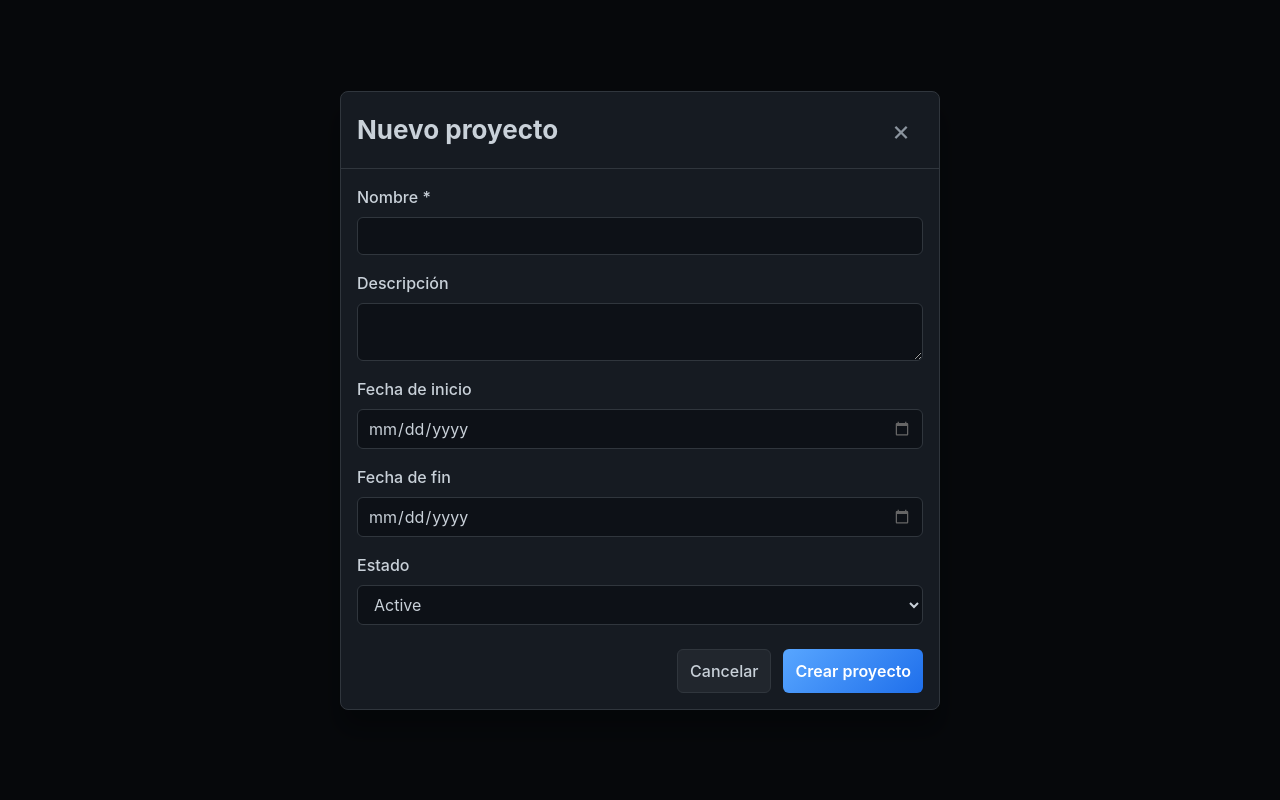
Scenario: ProjectFormModal › shows endDate error when endDate is before startDate
Type "Test" into the field labelled "Nombre *".
click(640, 236); type("Test")  # box [357,216,923,254]
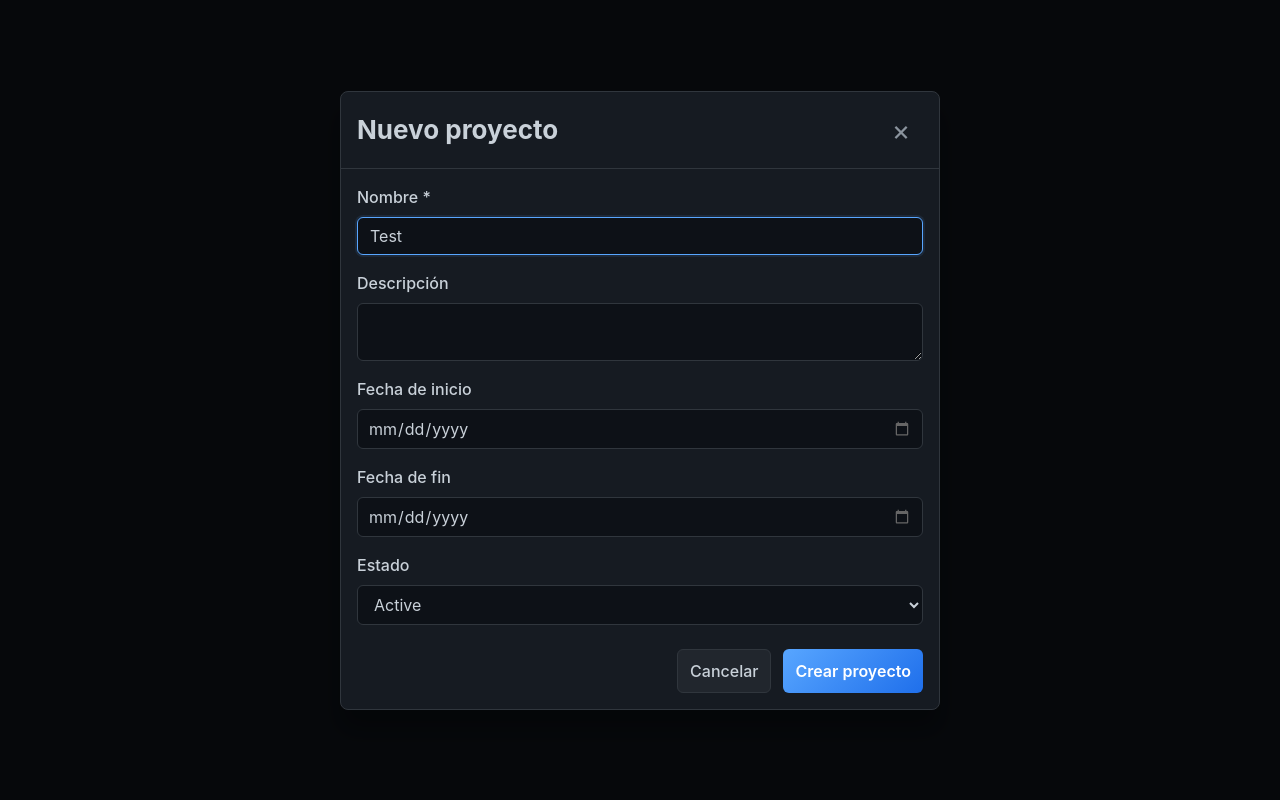
Type "2026-06-01" into the date field labelled "Fecha de inicio".
click(640, 428); type("2026-06-01")  # box [357,408,923,448]
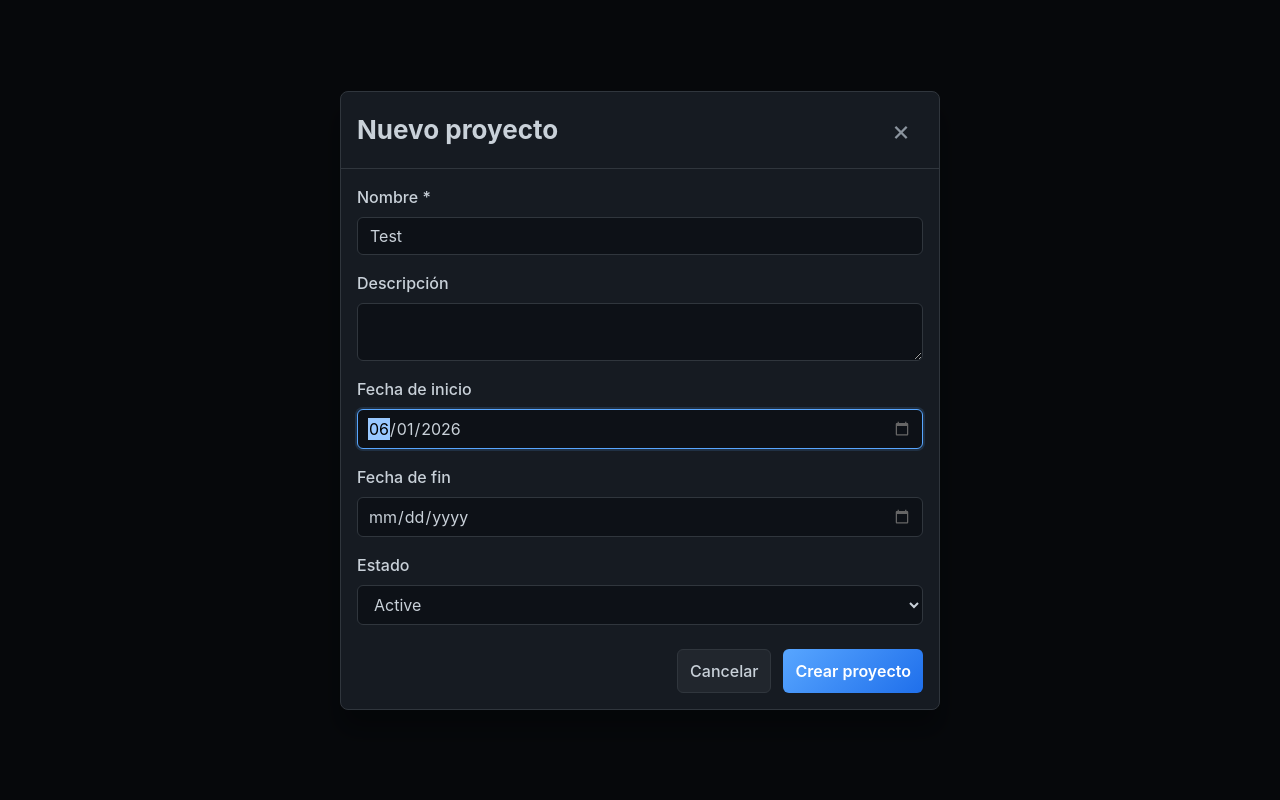
Type "2026-01-01" into the date field labelled "Fecha de fin".
click(640, 516); type("2026-01-01")  # box [357,496,923,536]
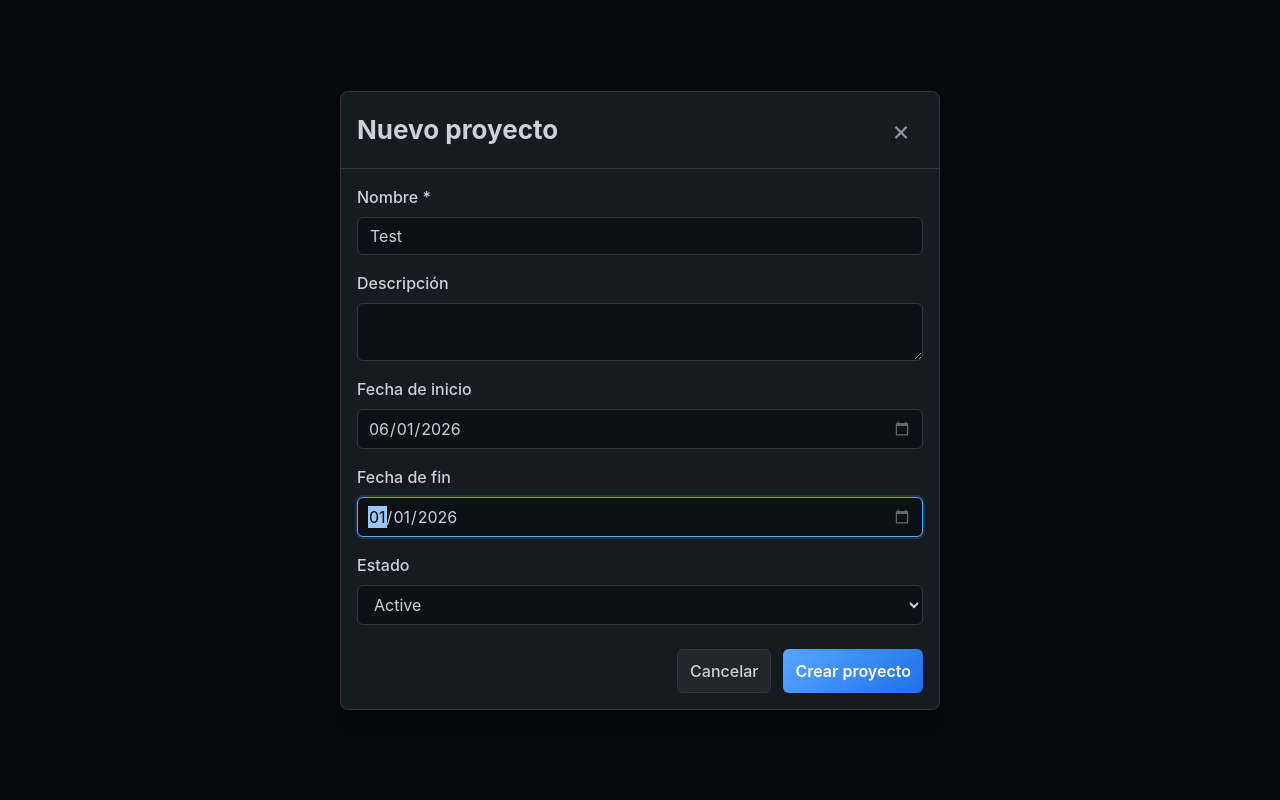
Click the button "Crear proyecto".
click(853, 670)  # box [784,648,923,692]
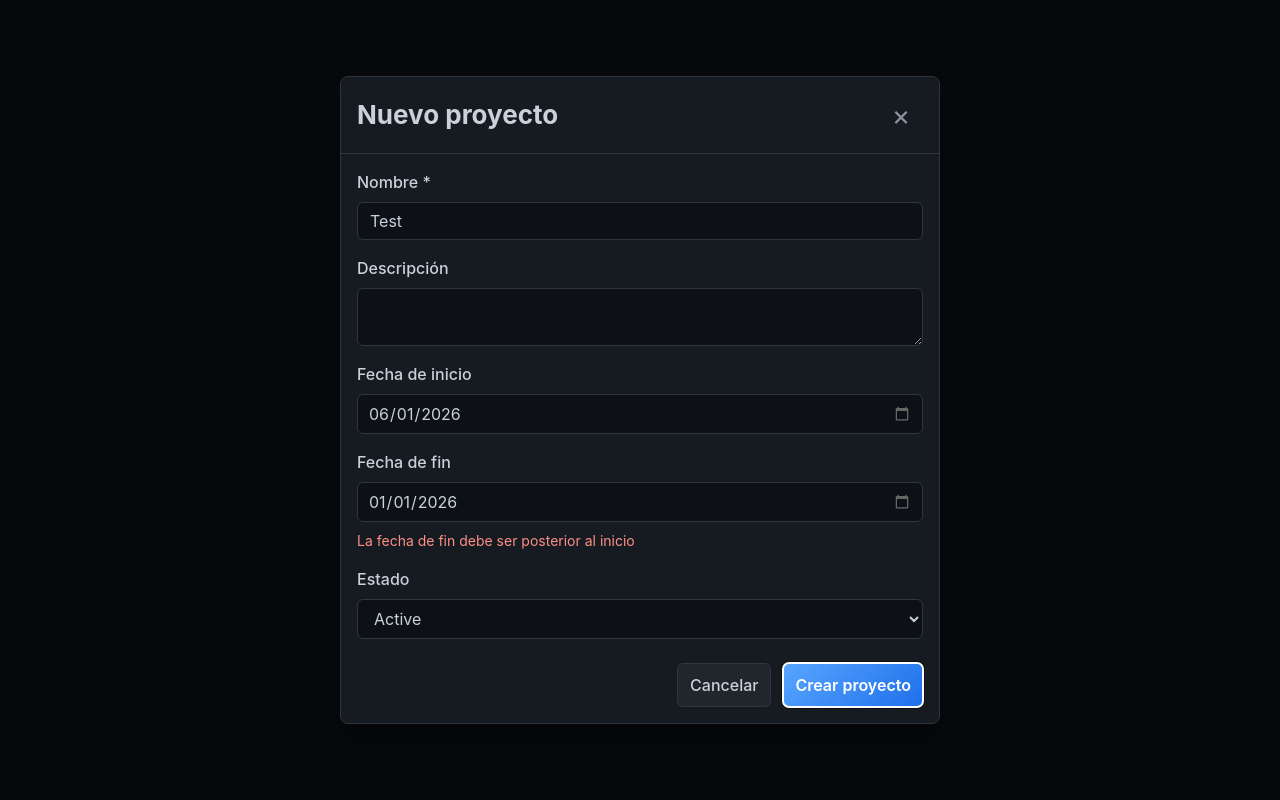
Now the text "La fecha de fin debe ser posterior al inicio" is shown, box [357,532,635,549]
